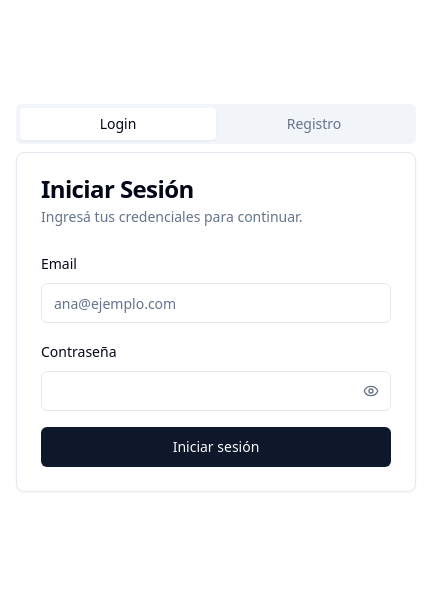
Test case: AuthPage [Componente] › Modo Registro › Caso 13: debería registrarse exitosamente con datos válidos
Click the tab "Registro" at (314, 124), box [216,108,412,140]
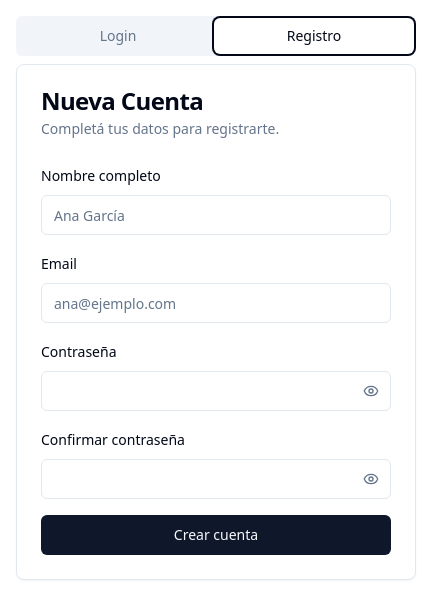
Type "Nuevo Usuario" into the field labelled "Nombre completo" at (216, 215), box [41,195,391,235]
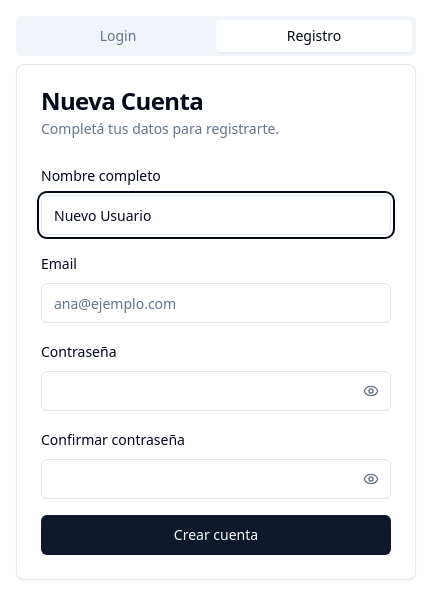
Type "new@example.com" into the field labelled "Email" at (216, 303), box [41,283,391,323]
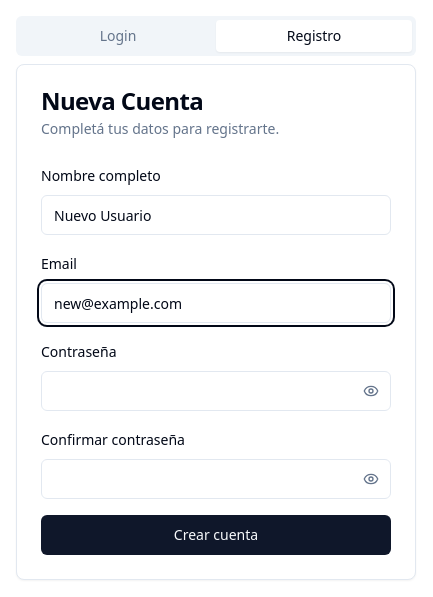
Type "Password123" into the password field labelled "Contraseña" at (216, 391), box [41,371,391,411]
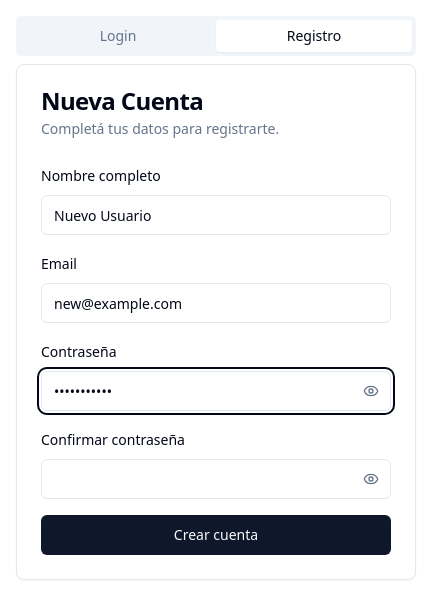
Type "Password123" into the password field labelled "Confirmar contraseña" at (216, 479), box [41,459,391,499]
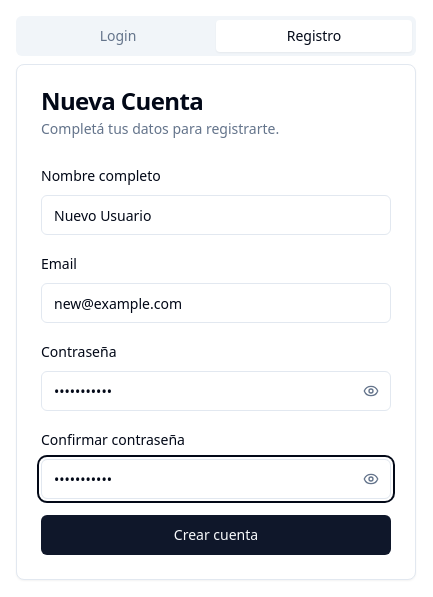
Click the button "Crear cuenta" at (216, 535), box [41,515,391,555]
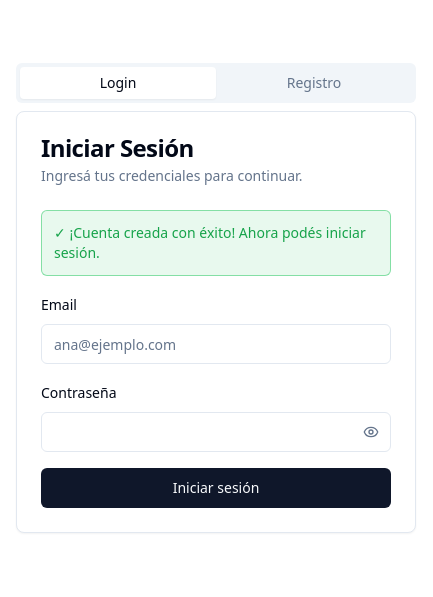
Expected: the text "✓ ¡Cuenta creada con éxito! Ahora podés iniciar sesión." is shown, [41,210,391,276]
